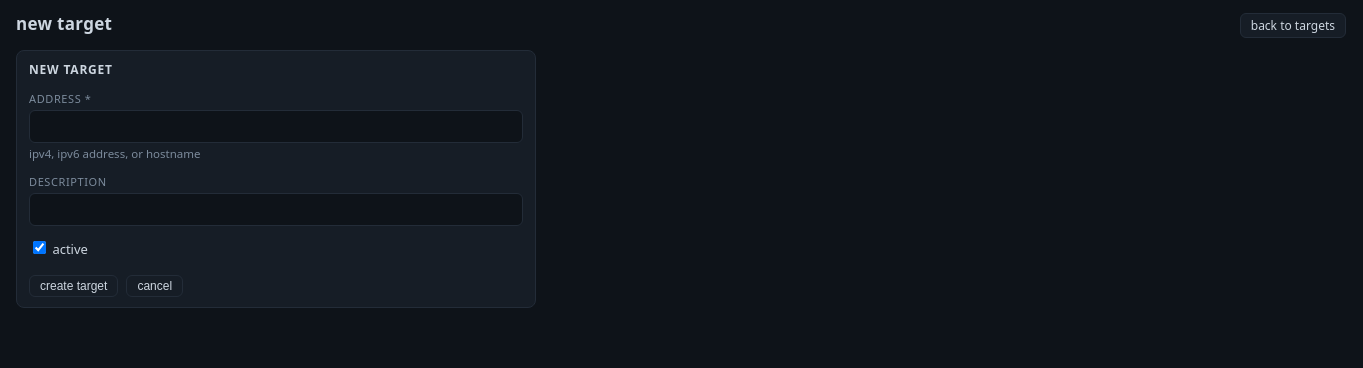
Test: TargetEditView creating a target › rejects a non-address without touching the api
The image size is (1363, 368).
Type "not an address!" into the field with id "address" at (276, 126), box [29, 110, 523, 142]
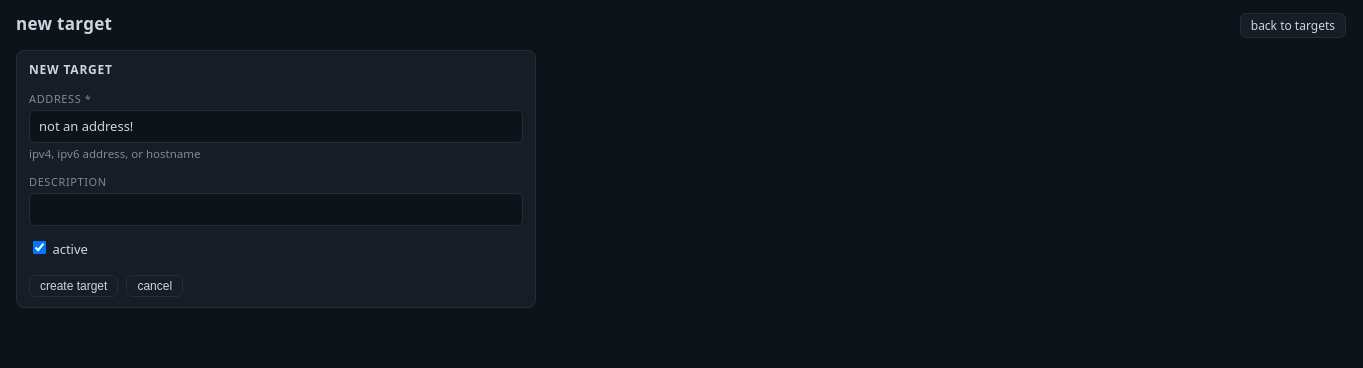
Submit the form, box [29, 91, 523, 297]
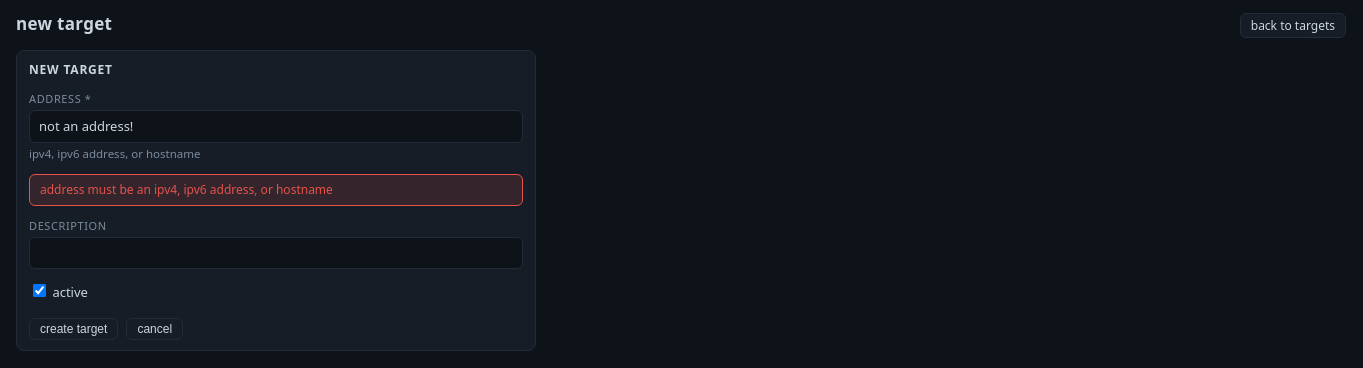
Expected: the message with class "err-note" reads "address must be an ipv4, ipv6 address, or hostname", [40, 181, 333, 198]
